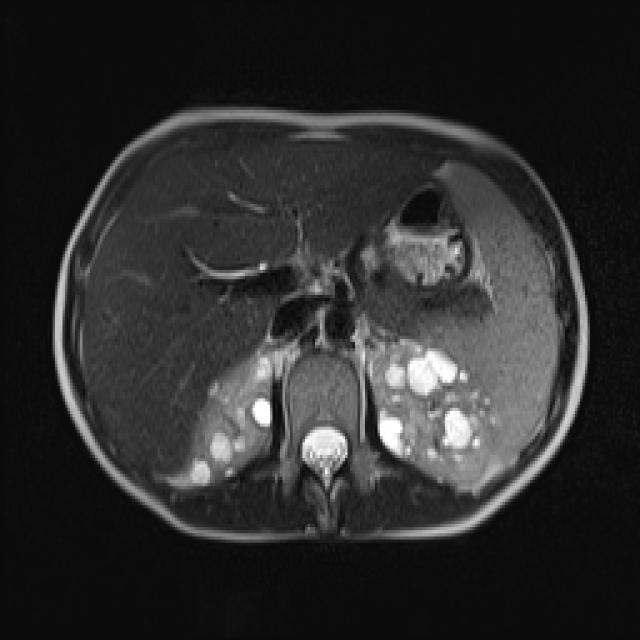sag: (185, 346, 276, 484)
sol: (373, 338, 499, 484)
